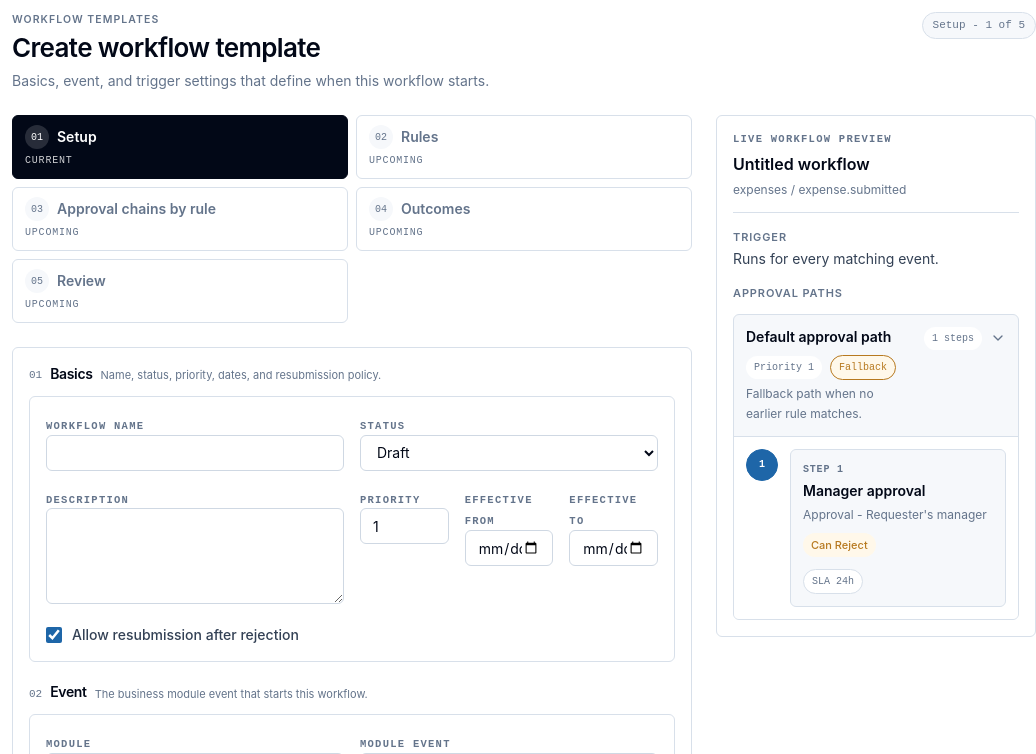
Test: WorkflowBuilderPage trigger setup › expands live preview approval paths into a visual timeline
Expected: the text "Step 1" is shown, [803, 464, 844, 474]
Expected: the text "SLA 24h" is shown, [803, 569, 863, 594]
Click the button with aria-label "collapse default approval path approval path preview": {"x": 876, "y": 375} [734, 314, 1018, 436]
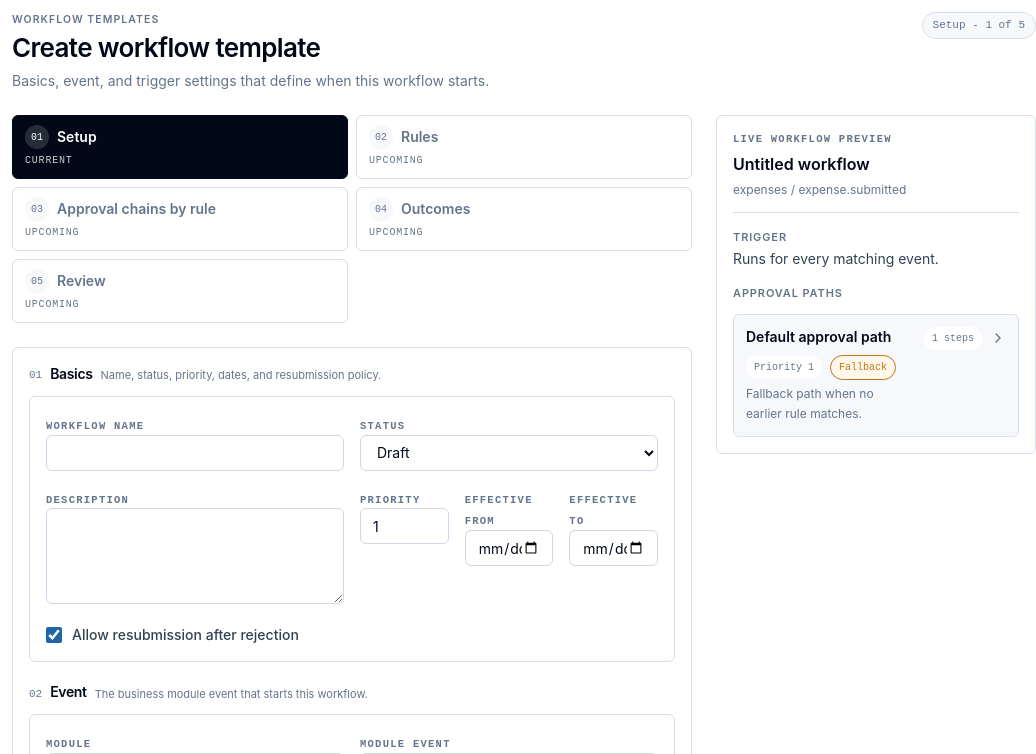
Expected: the text "Step 1" is gone
Click the button with aria-label "expand default approval path approval path preview": {"x": 876, "y": 375} [734, 314, 1018, 436]
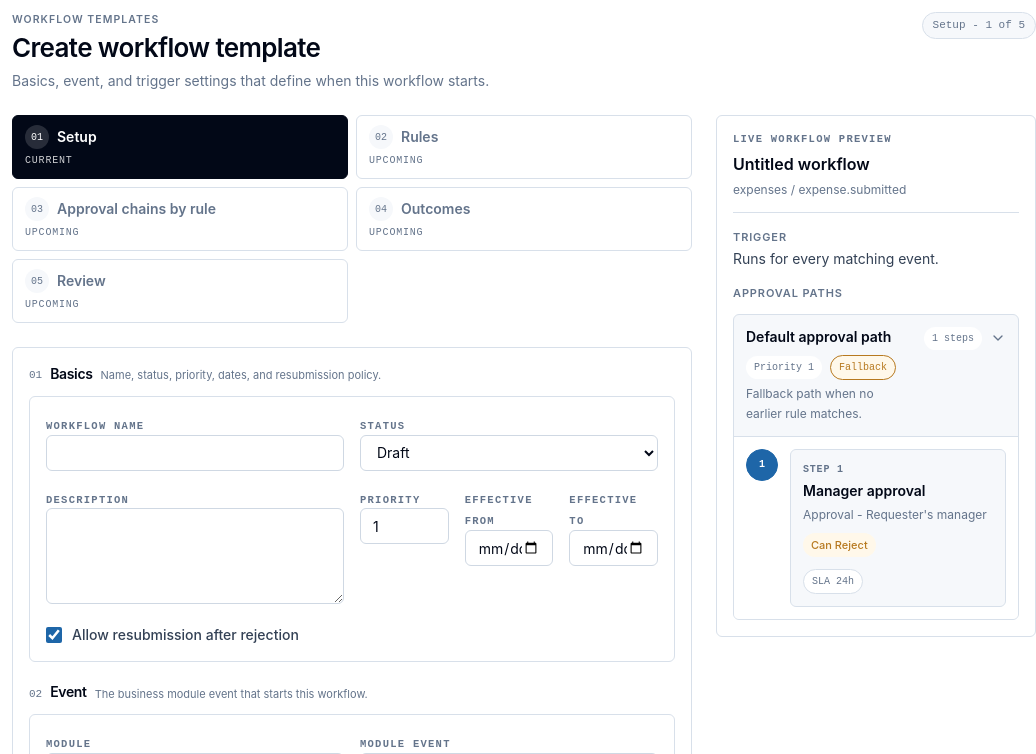
Expected: the text "Step 1" is shown, [803, 464, 844, 474]
